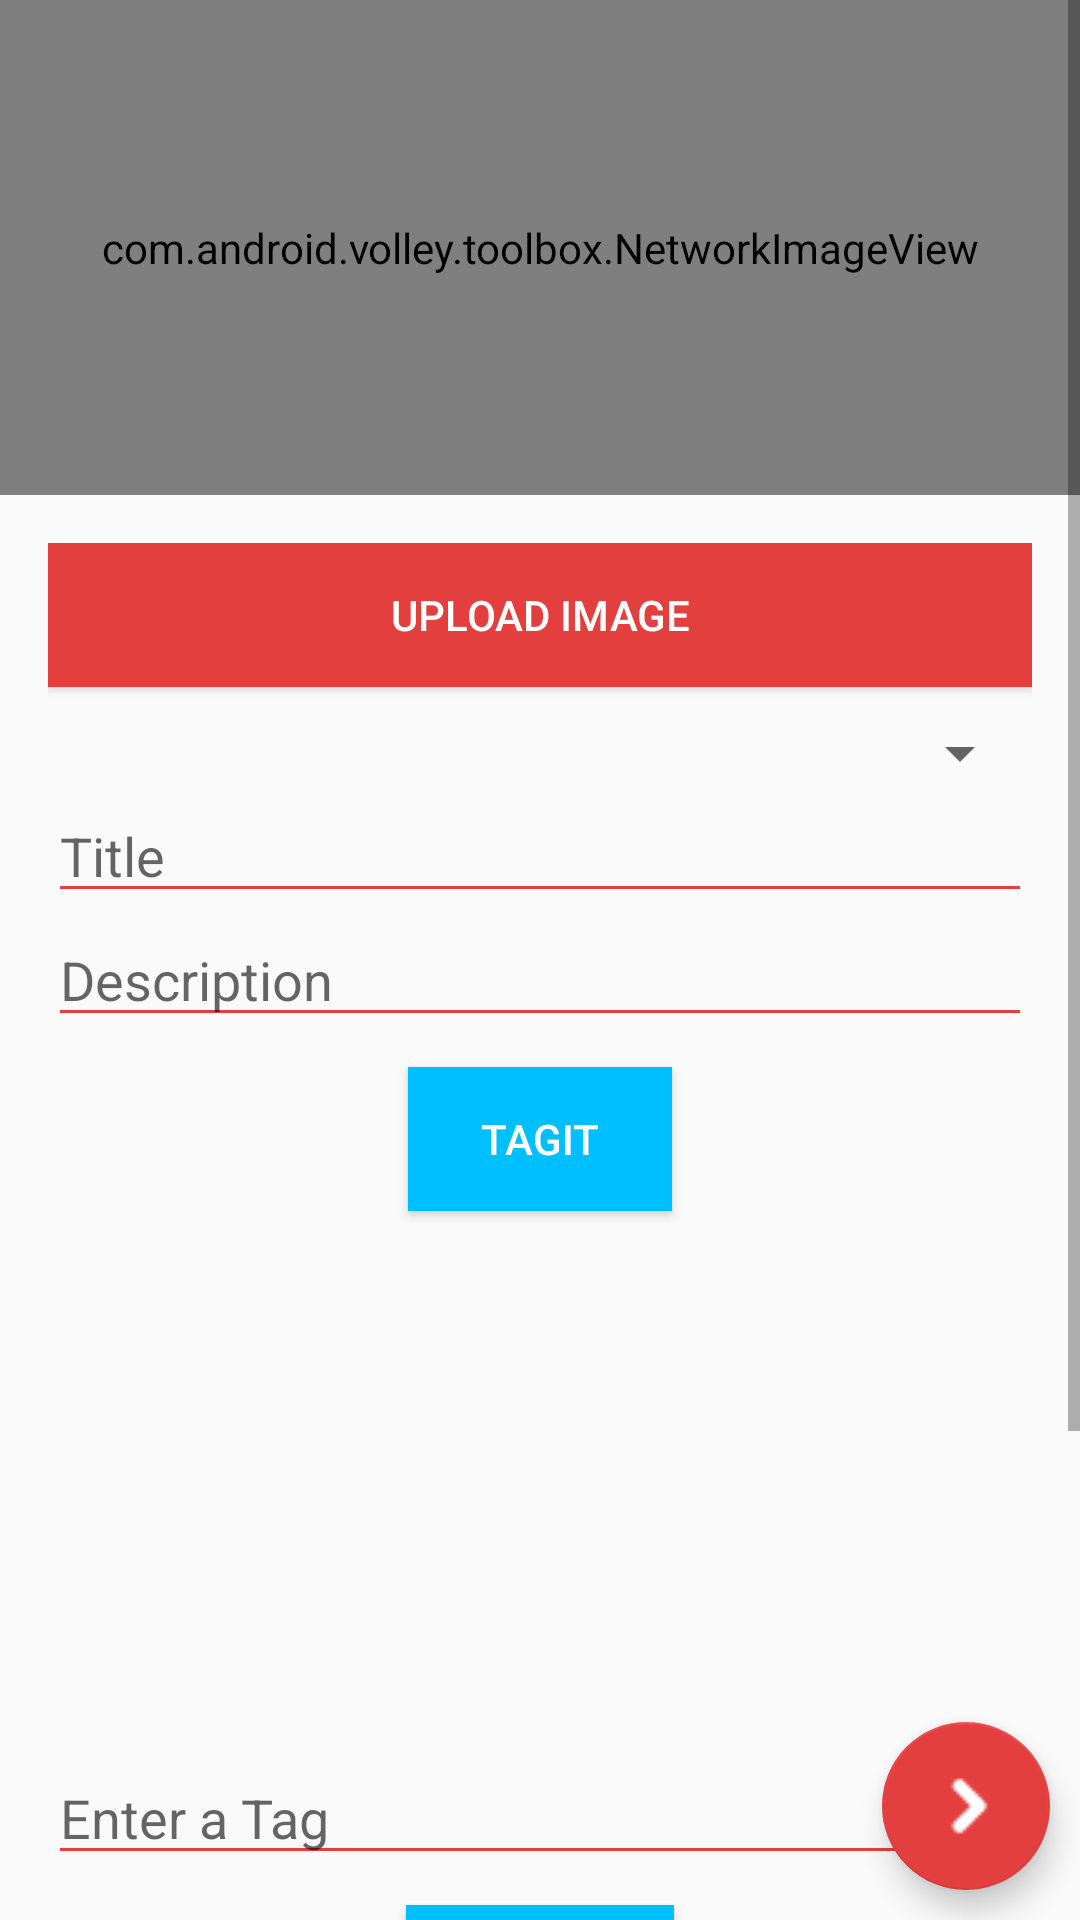

Icon bounding boxes for this 1080 × 1920 phone screenshot, format (x1, y1, x2, y2):
next: (882, 1722, 1050, 1890)
